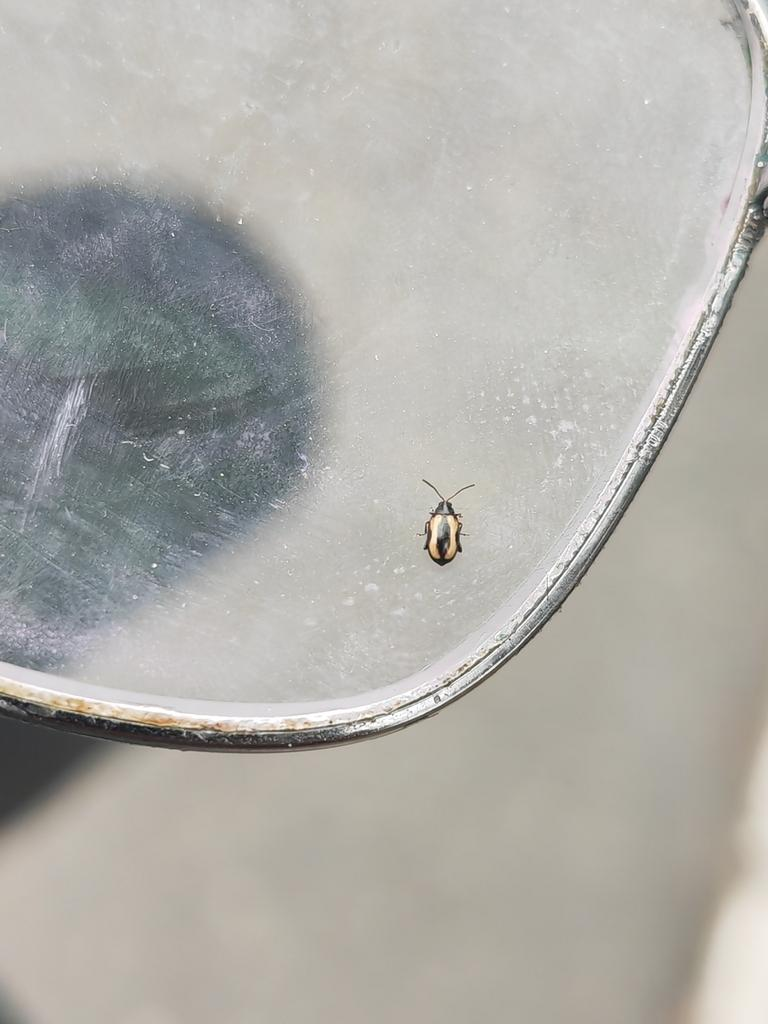flea_beetle: (397, 458, 489, 589)
